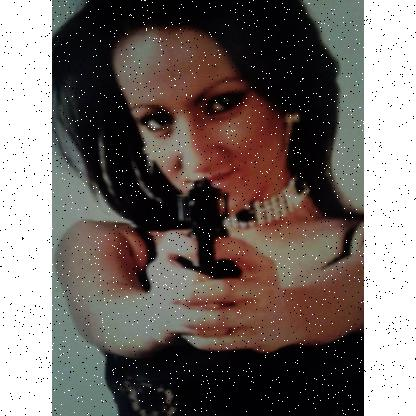gun: (176, 176, 238, 278)
